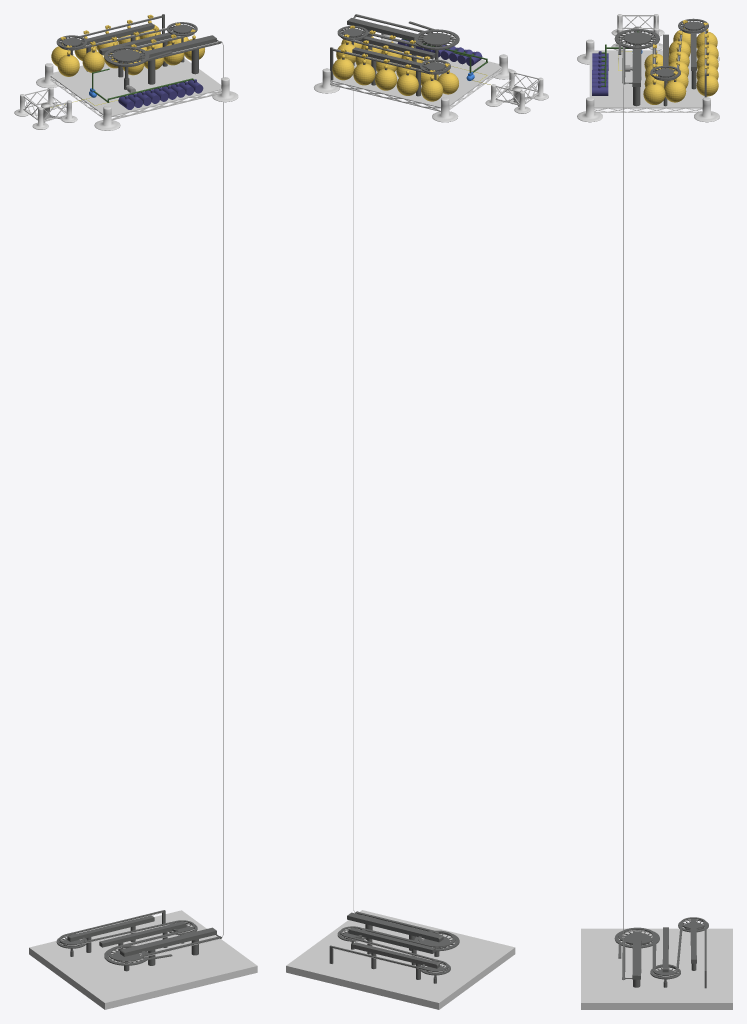
Rendered from OffShorePlatform.fbx.
The picture shows the model from 3 angles, left to right: view 1: azimuth 30°, elevation 25°; view 2: azimuth 150°, elevation 25°; view 3: azimuth 270°, elevation 25°; orthographic projection.
Parts seen in each view (by area): view 1: Bottom Platform, Gondola Platform, Storage Rack Bottom, Storage Rack, Driving Rack Bottom, Driving Rack, CablePath, C02 Storage, turbine outer platform; view 2: Bottom Platform, Gondola Platform, Storage Rack Bottom, Storage Rack, Driving Rack Bottom, Driving Rack, CablePath, turbine outer platform, C02 Storage; view 3: Bottom Platform, Gondola Platform, Storage Rack Bottom, Driving Rack Bottom, Storage Rack, Driving Rack, CablePath, C02 Storage, turbine outer platform, Sherical Enclosure.013, bullwheel Driver, Sherical Enclosure.012 (+1 smaller).
Part boxes in pixels (x1=…): Bottom Platform: x1=29, y1=910, x2=257, y2=1009; Gondola Platform: x1=36, y1=58, x2=238, y2=130; Storage Rack Bottom: x1=56, y1=910, x2=197, y2=952; Storage Rack: x1=56, y1=14, x2=197, y2=77; Driving Rack Bottom: x1=104, y1=927, x2=221, y2=965; Driving Rack: x1=104, y1=35, x2=221, y2=84; CablePath: x1=61, y1=15, x2=223, y2=962; C02 Storage: x1=92, y1=68, x2=203, y2=109; turbine outer platform: x1=14, y1=87, x2=77, y2=129; Bottom Platform: x1=286, y1=910, x2=515, y2=1009; Gondola Platform: x1=314, y1=25, x2=516, y2=122; Storage Rack Bottom: x1=329, y1=926, x2=450, y2=979; Storage Rack: x1=330, y1=26, x2=450, y2=96; Driving Rack Bottom: x1=347, y1=911, x2=459, y2=951; Driving Rack: x1=347, y1=14, x2=459, y2=50; CablePath: x1=332, y1=14, x2=454, y2=972; turbine outer platform: x1=485, y1=70, x2=548, y2=113; C02 Storage: x1=397, y1=38, x2=487, y2=73; Bottom Platform: x1=581, y1=928, x2=732, y2=1009; Gondola Platform: x1=577, y1=39, x2=719, y2=122; Storage Rack Bottom: x1=650, y1=917, x2=708, y2=988; Driving Rack Bottom: x1=614, y1=927, x2=659, y2=987; Storage Rack: x1=650, y1=18, x2=708, y2=97; Driving Rack: x1=614, y1=28, x2=659, y2=106; CablePath: x1=620, y1=25, x2=705, y2=980; C02 Storage: x1=592, y1=31, x2=638, y2=95; turbine outer platform: x1=611, y1=14, x2=664, y2=50; Sherical Enclosure.013: x1=643, y1=78, x2=665, y2=104; bullwheel Driver: x1=619, y1=30, x2=656, y2=46; Sherical Enclosure.012: x1=664, y1=78, x2=686, y2=102.
Bounding box in the file's own units: 12871 × 55488 × 8491.
